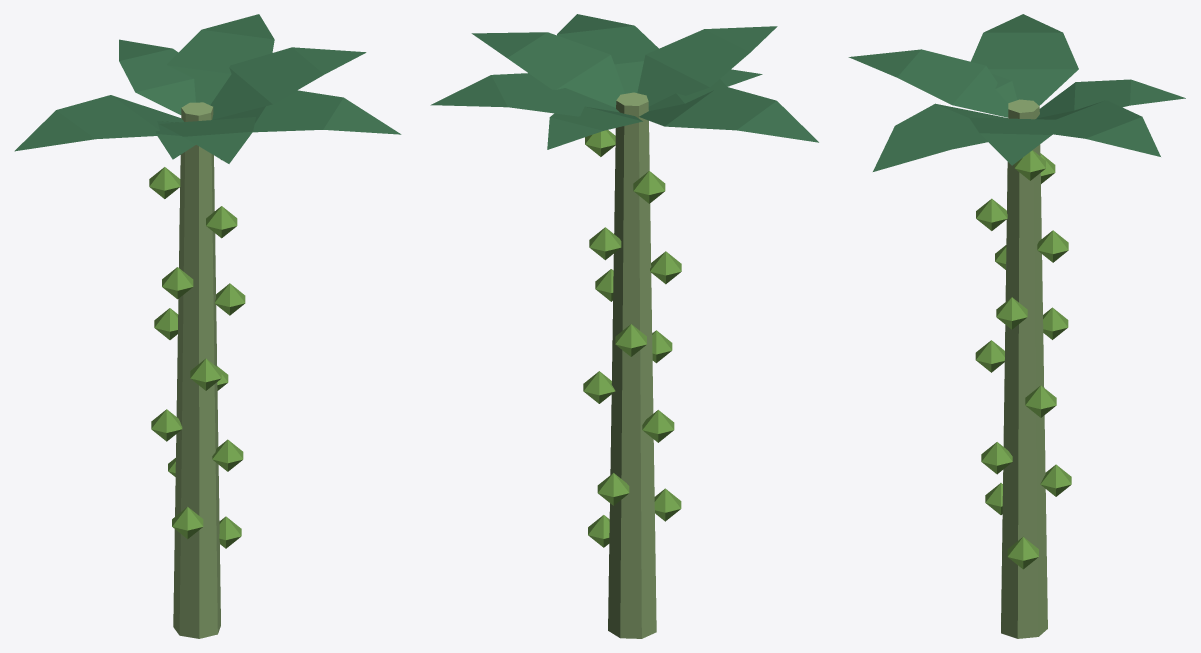
Rendered from brussels_sprouts.glb.
3 views of the same model, side by side, from view 1: azimuth 30°, elevation 25°; view 2: azimuth 150°, elevation 25°; view 3: azimuth 270°, elevation 25° (orthographic).
Visible parts, largest first — view 1: brussels_sprouts; view 2: brussels_sprouts; view 3: brussels_sprouts.
Boxes of the visible parts, x1,y1,x2,y2 form: brussels_sprouts: [14, 14, 401, 638]; brussels_sprouts: [430, 14, 818, 638]; brussels_sprouts: [848, 14, 1185, 638].
Bounding box in the file's own units: 0.4898 × 0.7334 × 0.4109.
